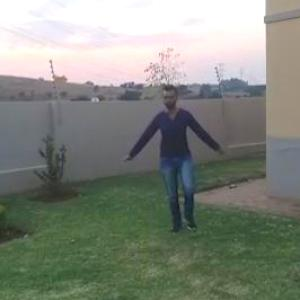land: (123, 82, 229, 247)
